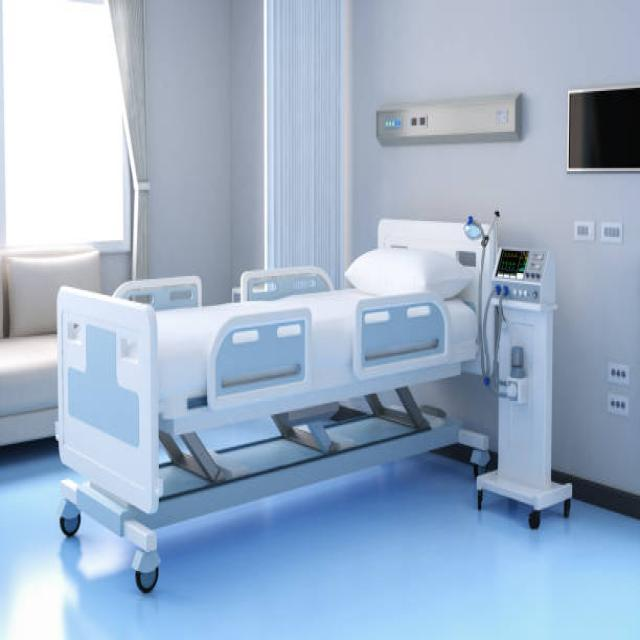Monitor: (472, 228, 578, 534)
bed: (54, 216, 494, 593)
sofa: (0, 243, 101, 448)
